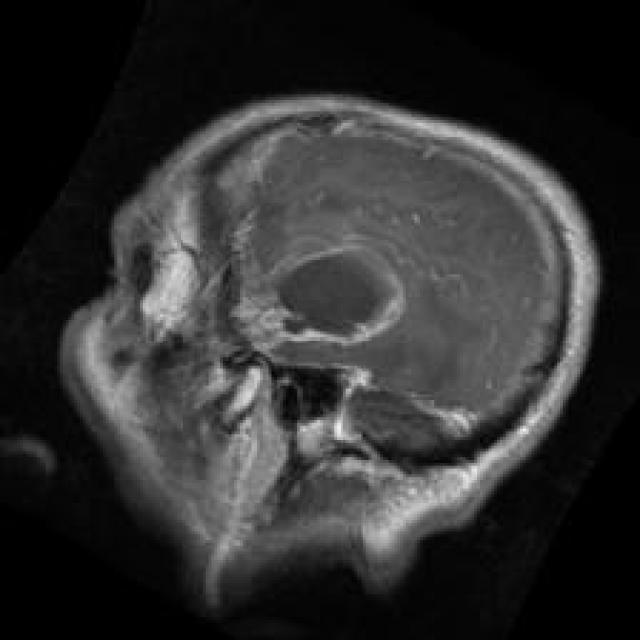glioma_tumor: (268, 240, 412, 361)
